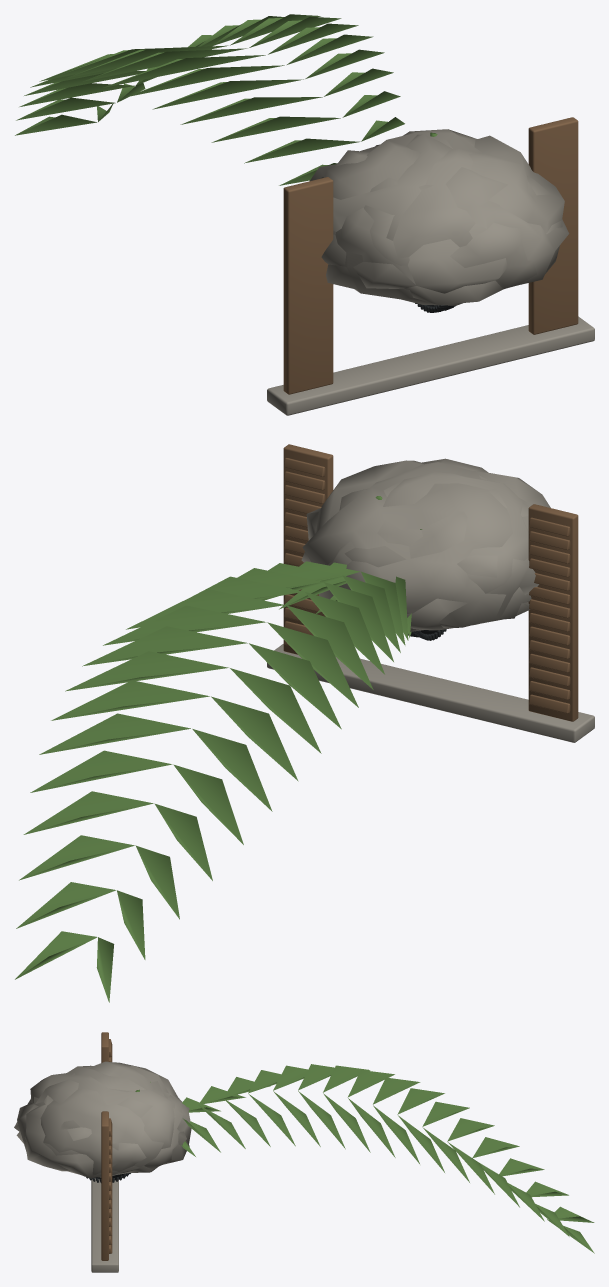
The model's file is coastal-assets.glb.
3 views of the same model, one above another, from view 1: azimuth 30°, elevation 25°; view 2: azimuth 150°, elevation 25°; view 3: azimuth 270°, elevation 25° (orthographic). The views are drawn at different scales.
Visible parts, largest first — view 1: Frame, Palm blade, Granite, Granite.002, Granite.001; view 2: Palm blade, Frame, Granite, Granite.002, Granite.001; view 3: Palm blade, Granite, Granite.002, Frame, Granite.001.
Boxes of the visible parts, <box> form: Frame: <box>267,117,594,415</box>; Palm blade: <box>15,14,404,185</box>; Granite: <box>310,129,569,304</box>; Granite.002: <box>321,134,564,293</box>; Granite.001: <box>320,129,562,305</box>; Palm blade: <box>15,561,411,1002</box>; Frame: <box>267,444,594,742</box>; Granite: <box>302,462,550,631</box>; Granite.002: <box>301,460,538,623</box>; Granite.001: <box>306,458,529,630</box>; Palm blade: <box>181,1064,594,1253</box>; Granite: <box>16,1061,191,1178</box>; Granite.002: <box>14,1065,186,1175</box>; Frame: <box>91,1032,118,1272</box>; Granite.001: <box>17,1066,189,1177</box>.
Bounding box in the file's own units: 2.85 × 2.17 × 7.
